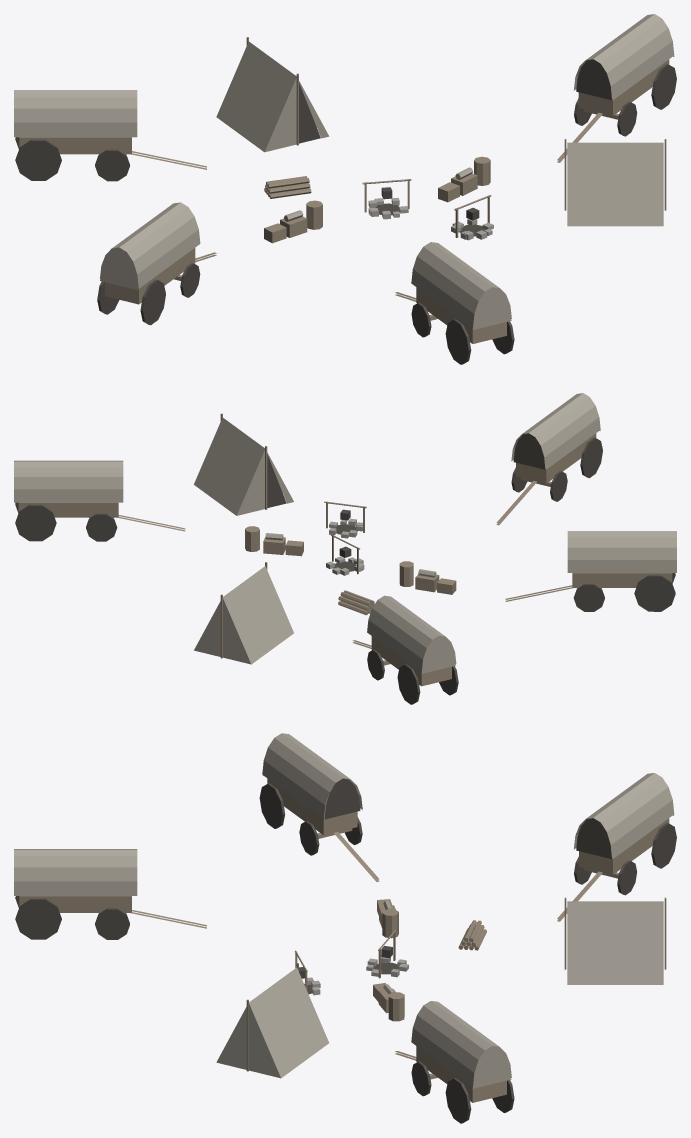
Rendered from west_approach_wagon_camp__camp_1835.glb.
3 renders of one model, top to bottom at view 1: azimuth 30°, elevation 25°; view 2: azimuth 150°, elevation 25°; view 3: azimuth 270°, elevation 25°, orthographic. The views are drawn at different scales.
Visible parts, largest first — view 1: west_approach_wagon_camp__camp_1835; view 2: west_approach_wagon_camp__camp_1835; view 3: west_approach_wagon_camp__camp_1835.
Part boxes in pixels (x1,y1,x2,y2): west_approach_wagon_camp__camp_1835: (14, 14, 676, 364); west_approach_wagon_camp__camp_1835: (14, 393, 676, 704); west_approach_wagon_camp__camp_1835: (14, 733, 676, 1123).
Bounding box in the file's own units: 21.71 × 2.5 × 18.84.
